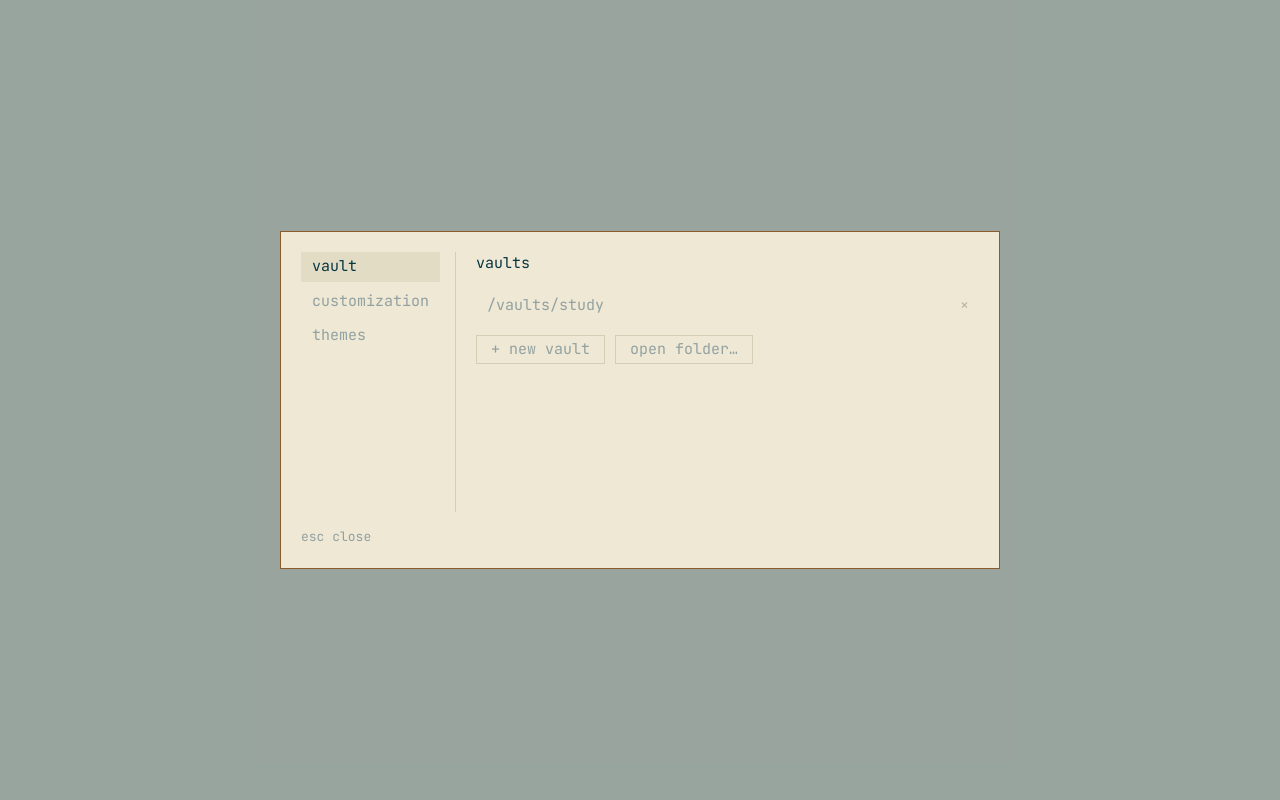
Test: ConfigModal › switches to the themes section from the sidebar
What coordinates should you click on to do the following:
click the button "themes"
I would click on:
 (370, 336)
Its box is [301,321,440,350].
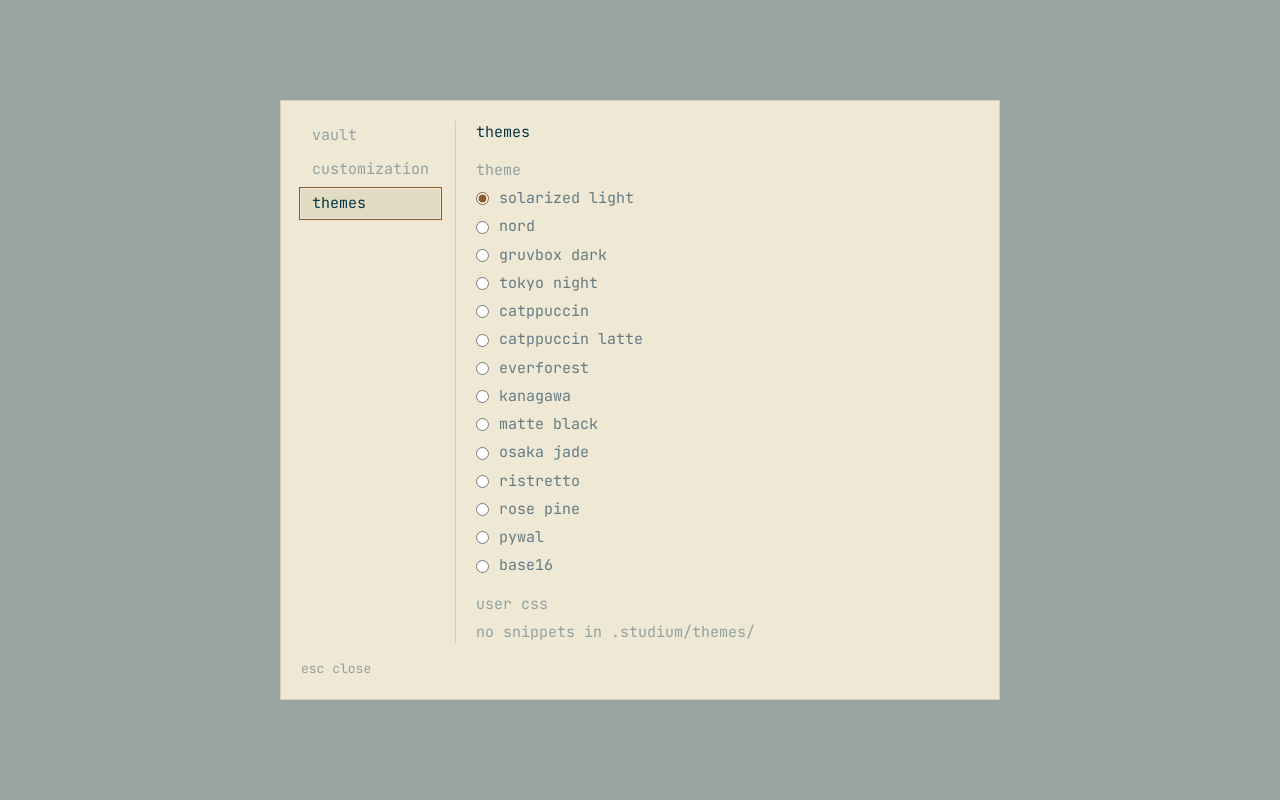
Expected: the element "theme" is shown, [476,160,643,575]
Expected: the radio button labelled "solarized light" is shown, [476,192,489,205]
